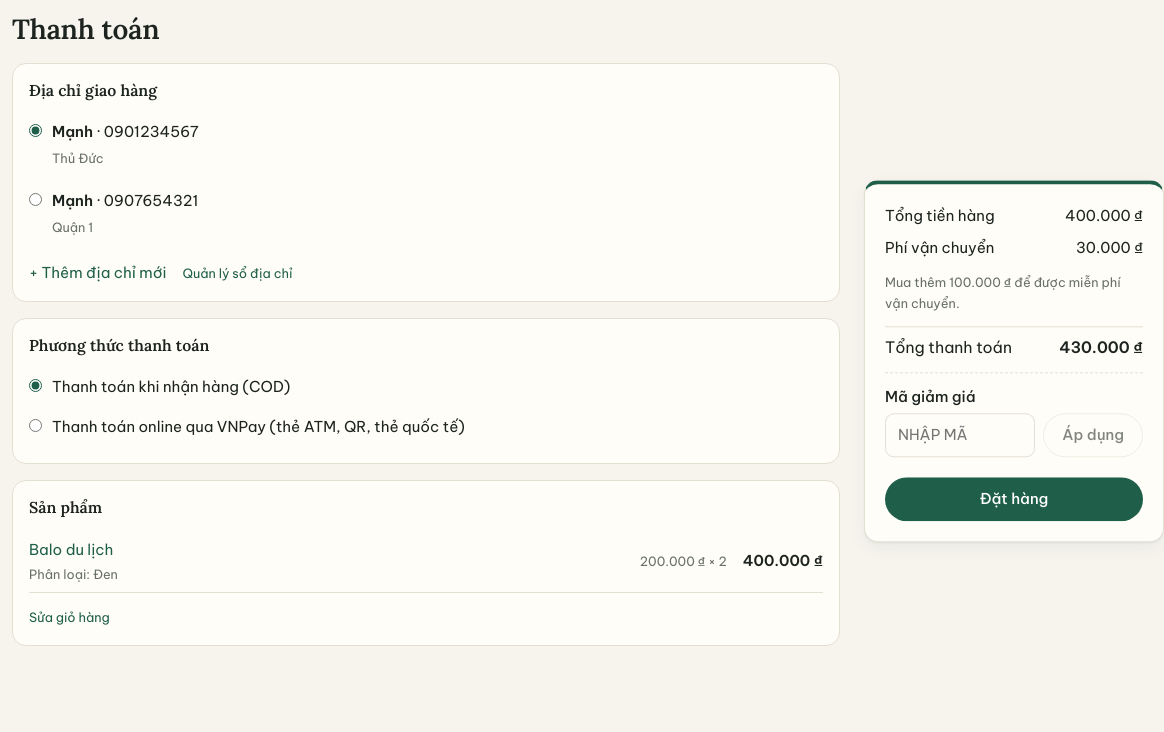
it: CheckoutPage › giá vừa đổi (409) thì báo lỗi và tải lại tóm tắt
Click the button "Đặt hàng": x=1014, y=500 [885,478,1143,522]
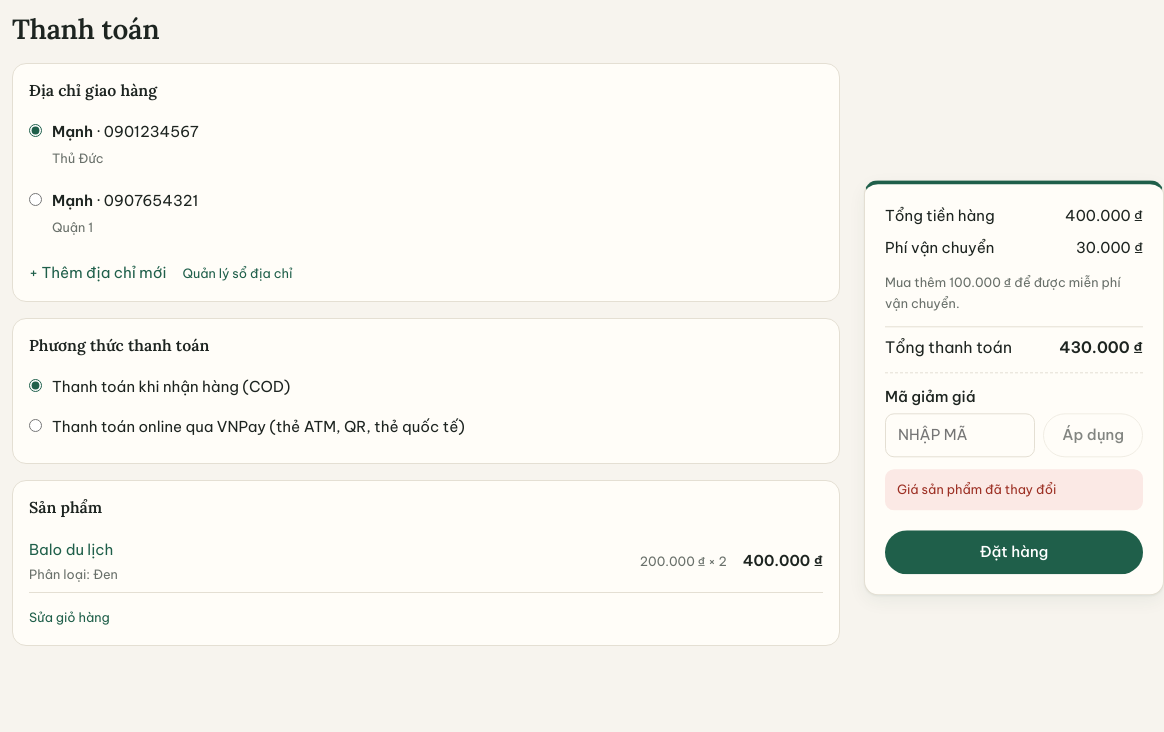
expect the message reads "Giá sản phẩm đã thay đổi": met, box [897,482,1056,498]
